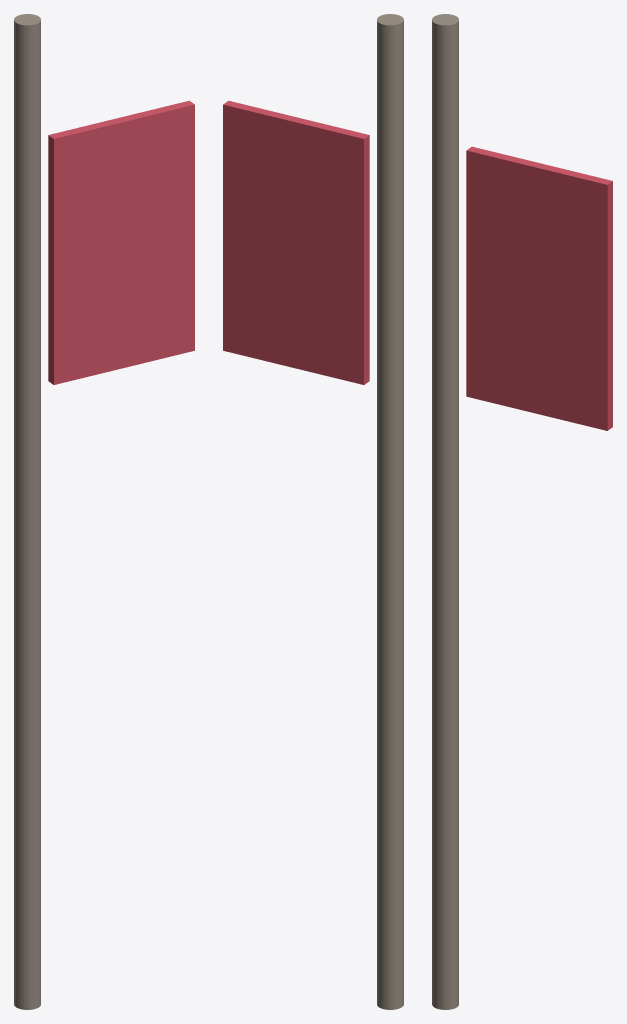
The model's file is roman_banner.glb.
3 renders of one model, left to right at view 1: azimuth 30°, elevation 25°; view 2: azimuth 150°, elevation 25°; view 3: azimuth 330°, elevation 25°, orthographic.
Parts seen in each view (by area): view 1: Cube, Cylinder; view 2: Cube, Cylinder; view 3: Cube, Cylinder.
Part boxes in pixels (x1,y1,x2,y2): Cube: (48, 100, 194, 384); Cylinder: (14, 14, 40, 1009); Cube: (223, 100, 369, 384); Cylinder: (377, 14, 403, 1009); Cube: (466, 146, 612, 430); Cylinder: (432, 14, 458, 1009).
Bounding box in the file's own units: 0.375 × 2 × 0.05.
